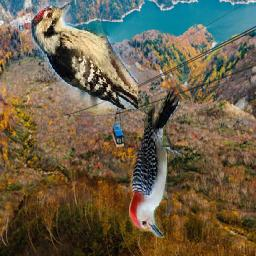Woodpecker: (32, 3, 139, 110), (130, 88, 183, 239)
